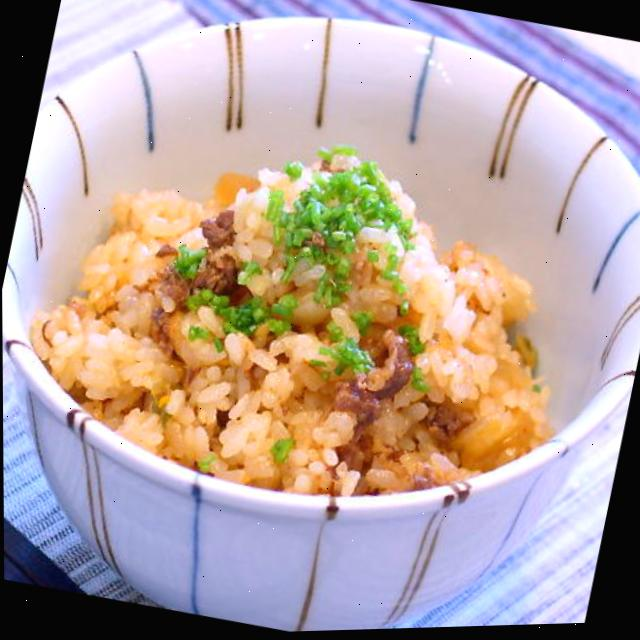米饭主食: (17, 87, 591, 556)
